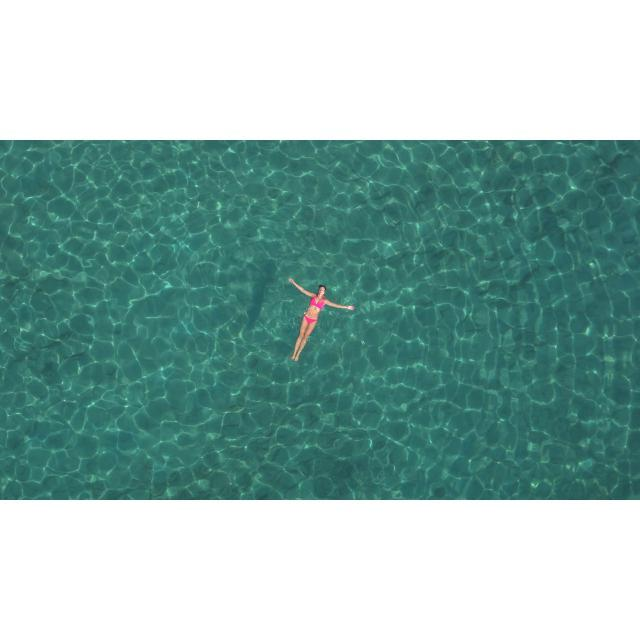human: (289, 280, 356, 365)
